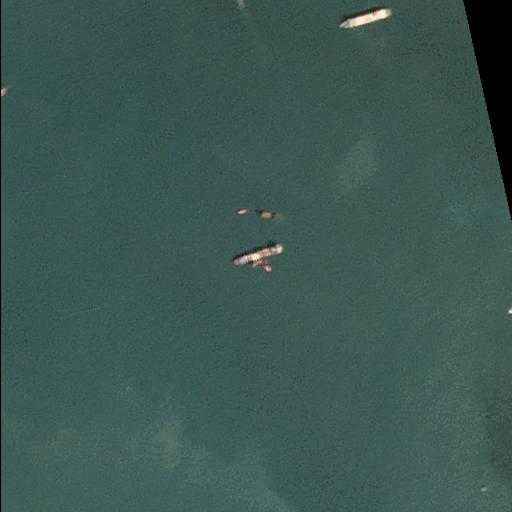ship: (231, 245, 281, 267), (338, 8, 392, 28), (256, 208, 275, 222), (250, 258, 266, 268), (261, 264, 273, 274), (235, 208, 246, 216)
